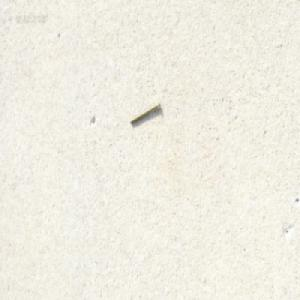Bolt: (129, 100, 159, 126)
